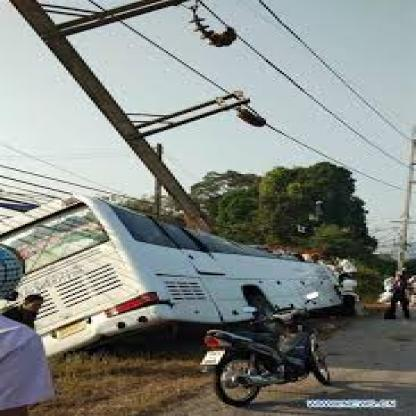accident: (3, 164, 416, 362)
